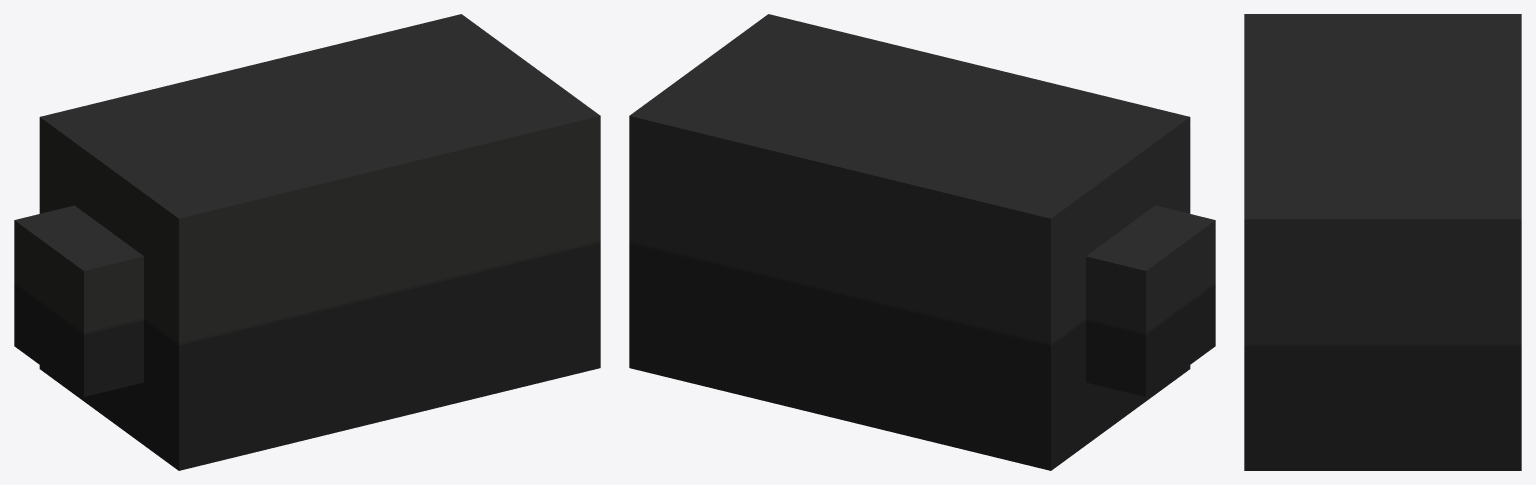
Rendered from Shoulder049.fbx.
The picture shows the model from 3 angles, left to right: view 1: azimuth 30°, elevation 25°; view 2: azimuth 150°, elevation 25°; view 3: azimuth 270°, elevation 25°; orthographic projection.
Visible parts, largest first — view 1: Shoulder049; view 2: Shoulder049; view 3: Shoulder049.
Boxes of the visible parts, <box> form: Shoulder049: <box>14,14,600,470</box>; Shoulder049: <box>629,14,1215,470</box>; Shoulder049: <box>1244,14,1521,470</box>.
Bounding box in the file's own units: 8 × 4 × 4.
